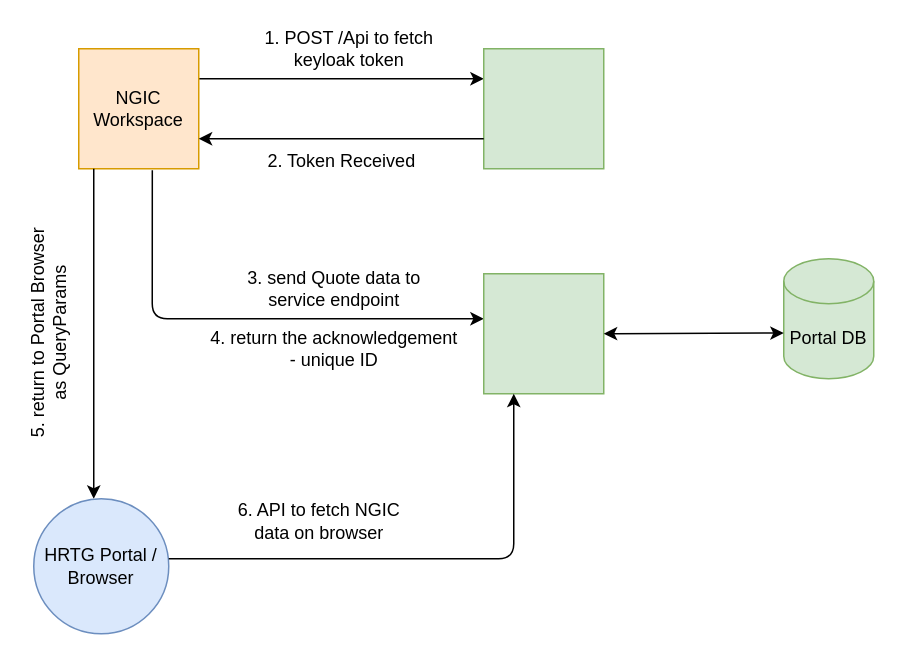
The diagram is 900 pixels wide and 660 high, and some of its shapes have lost their labels. Each missing label, with the centre of its shape:
HRTG Server: [543,333]
HRTG Token generation service: [543,108]
